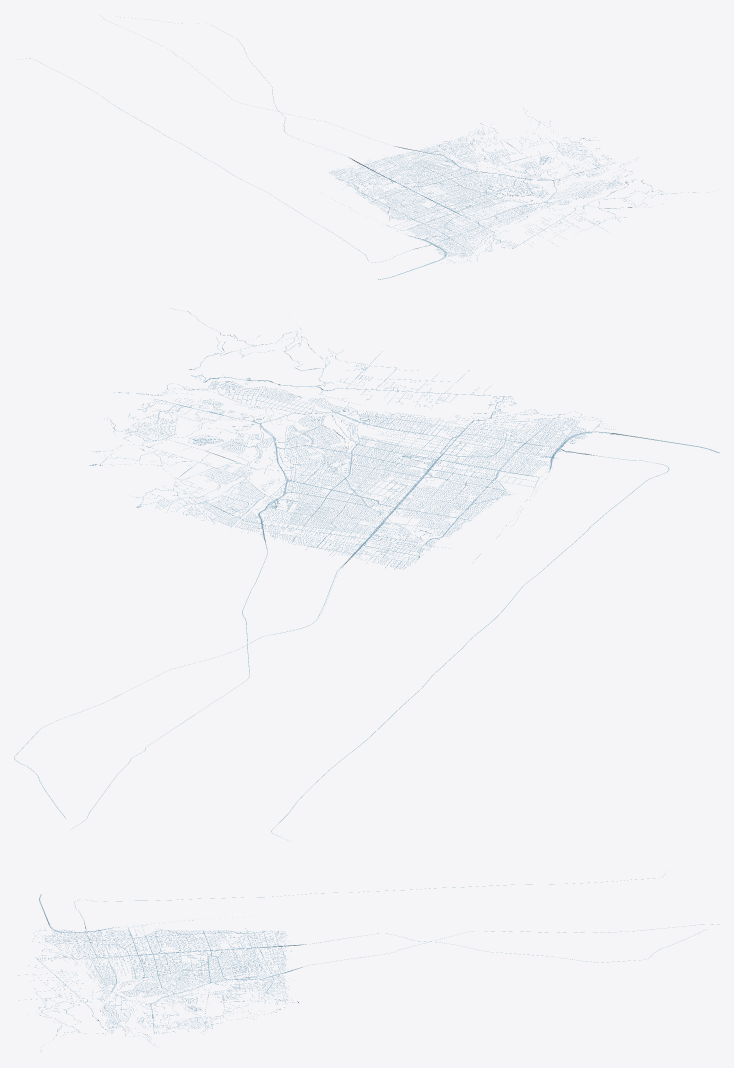
The model's file is roads.glb.
3 renders of one model, top to bottom at view 1: azimuth 30°, elevation 25°; view 2: azimuth 150°, elevation 25°; view 3: azimuth 270°, elevation 25°, orthographic. The views are drawn at different scales.
Visible parts, largest first — view 1: roads; view 2: roads; view 3: roads.
Boxes of the visible parts, bbox=[...] form: roads: bbox=[26, 16, 708, 279]; roads: bbox=[14, 308, 719, 841]; roads: bbox=[18, 873, 719, 1052].
Size of the model in its own units: 16117 by 714 by 25412.
